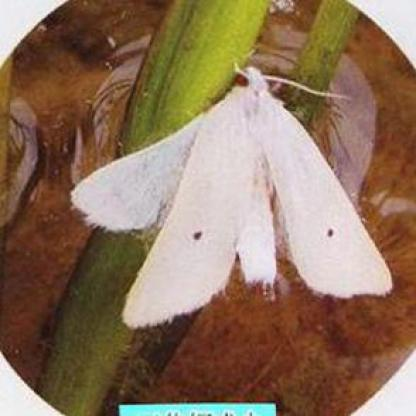stem-borer: (70, 63, 392, 328)
